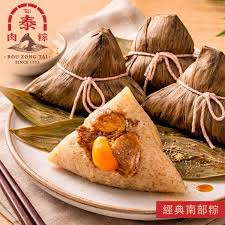zongzi: (49, 87, 185, 192), (29, 28, 144, 115), (144, 46, 224, 147), (126, 14, 195, 94)
